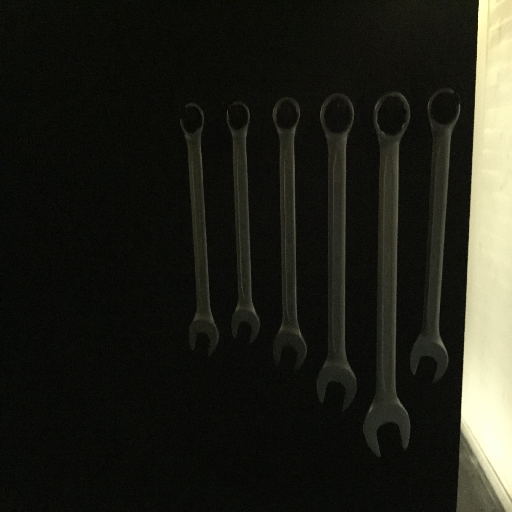bottom: (362, 399, 413, 459), (317, 360, 359, 412), (409, 336, 450, 386), (271, 327, 308, 372), (185, 315, 222, 358), (228, 305, 262, 345)
top: (371, 88, 412, 144), (317, 90, 356, 142), (425, 88, 464, 133), (271, 95, 302, 138), (224, 98, 254, 139), (178, 100, 206, 139)
